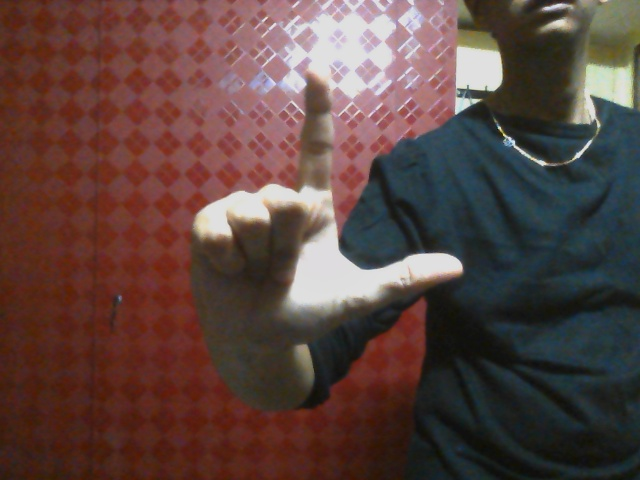L: (191, 67, 464, 349)
